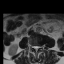CCS_normal: (35, 44, 37, 53)
LFS_stenosis: (39, 43, 41, 49)
LLS_normal: (37, 44, 39, 51)
RFS_normal: (31, 43, 33, 49)
RLS_normal: (33, 43, 35, 50)
